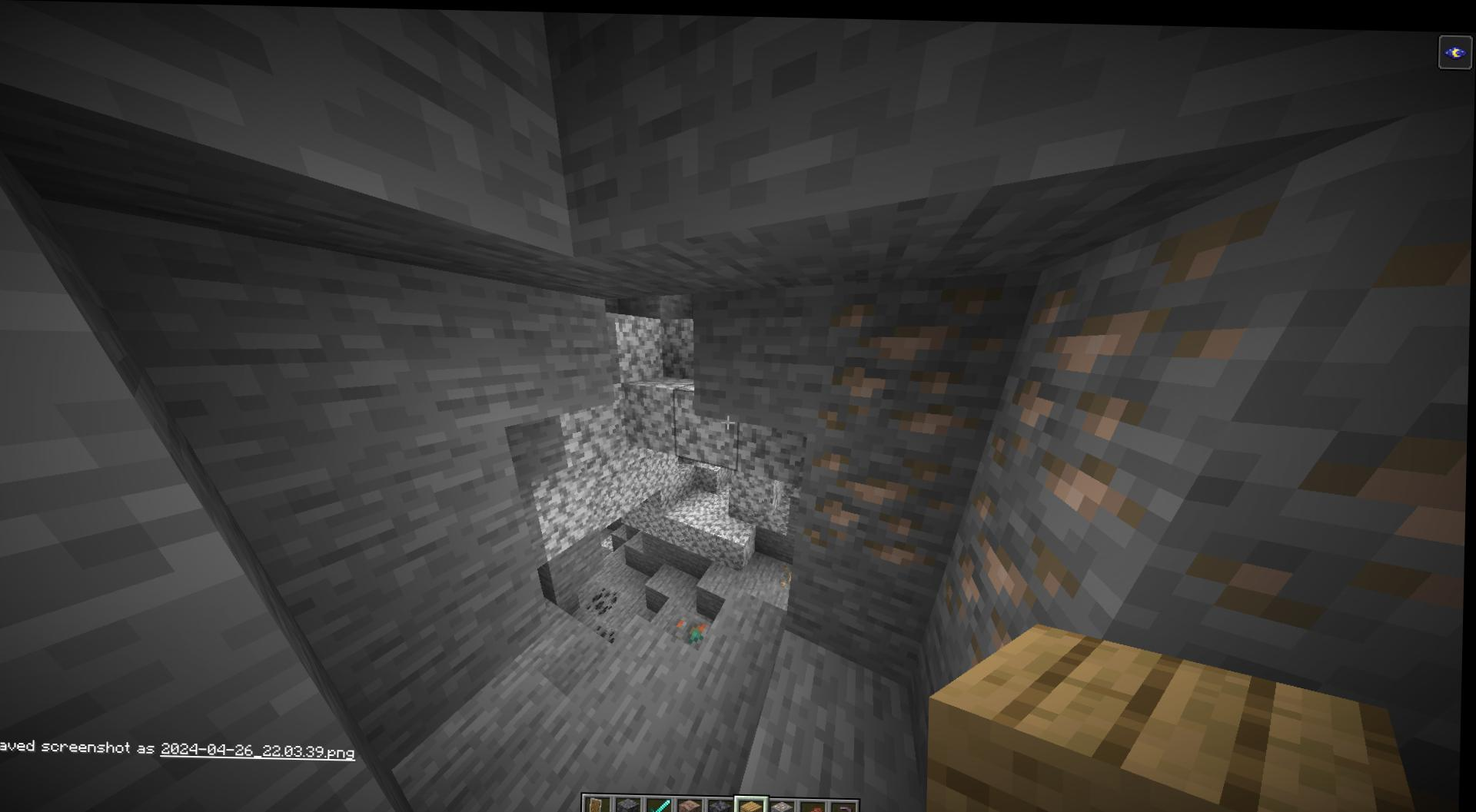iron ore: (999, 196, 1280, 499), (824, 286, 1001, 440), (952, 484, 1076, 678), (810, 435, 959, 569)
